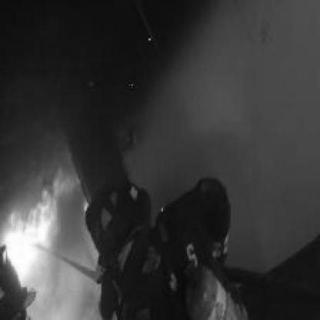Fire: (1, 182, 53, 284)
